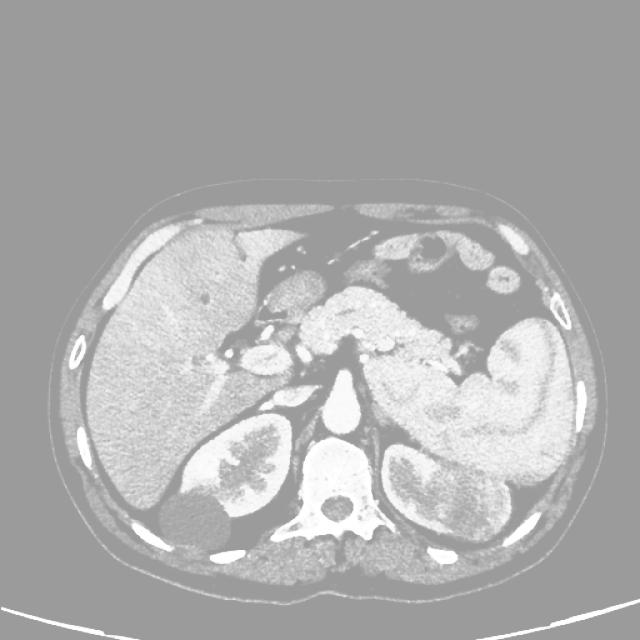TUMOR: (100, 329, 612, 537)
